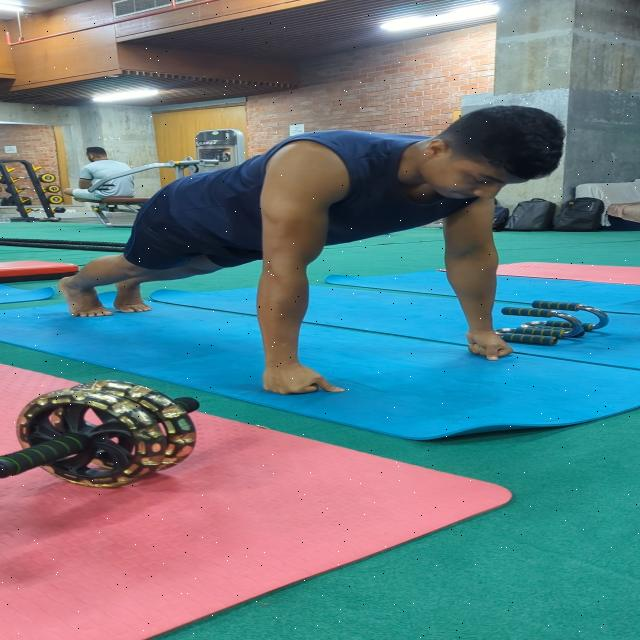Normal_PushUps: (53, 100, 566, 407)
